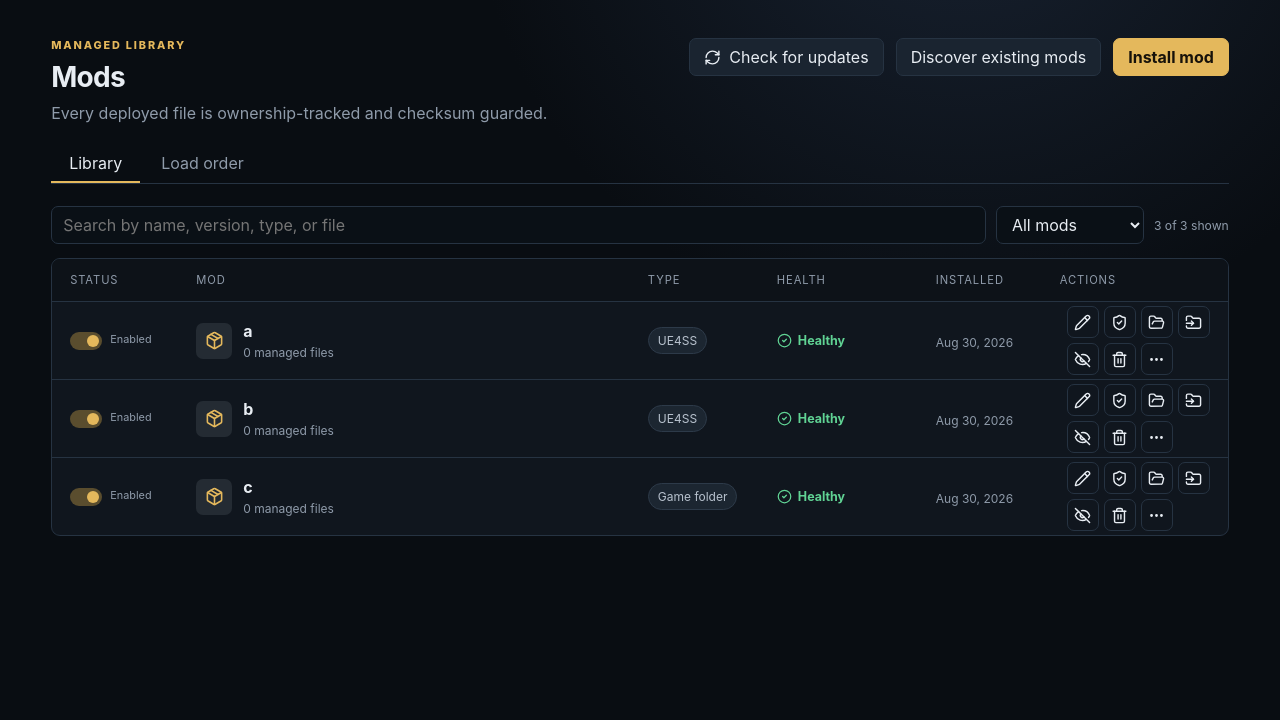
Scenario: load-order scope › says where the mods it does not list are ordered instead
What coordinates should you click on to do the following:
click the tab "Load order"
I would click on:
 (202, 164)
Its box is x1=143 y1=145 x2=262 y2=183.
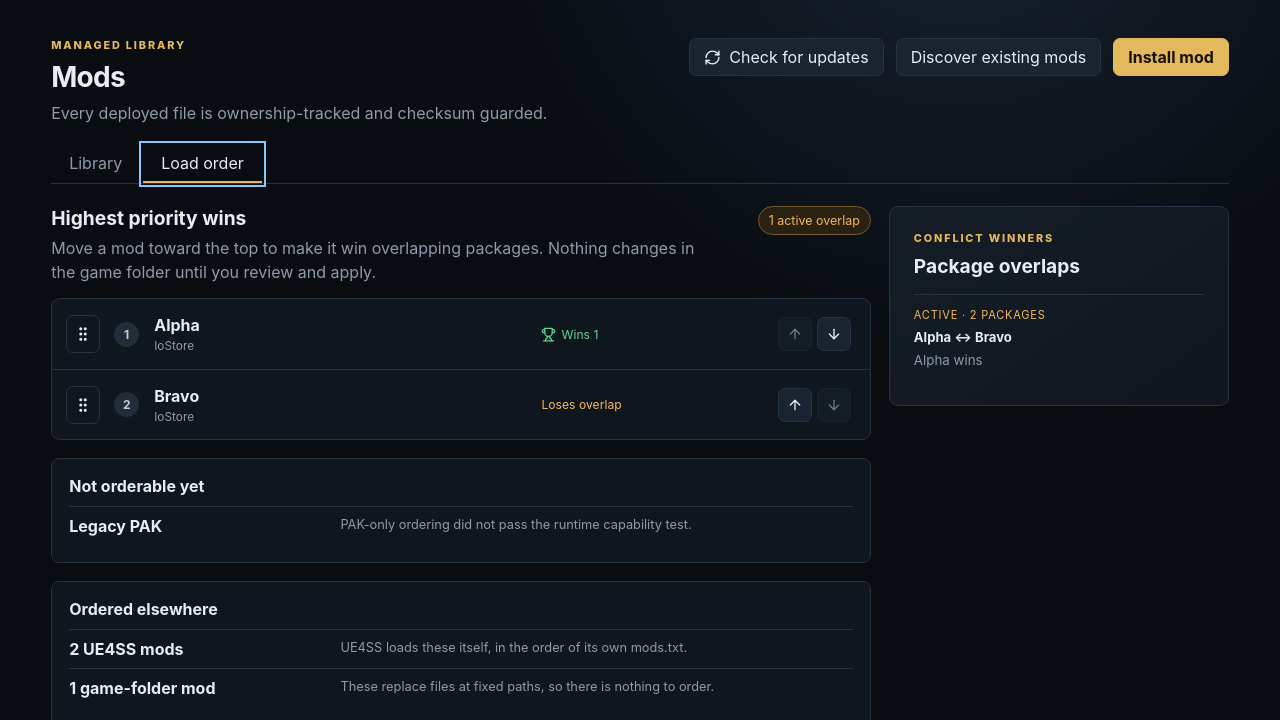
Now the heading "Ordered elsewhere" is shown, box x1=69 y1=599 x2=218 y2=619
Now the text "2 UE4SS mods" is shown, box x1=69 y1=639 x2=184 y2=659
Now the text "1 game-folder mod" is shown, box x1=69 y1=678 x2=216 y2=698
